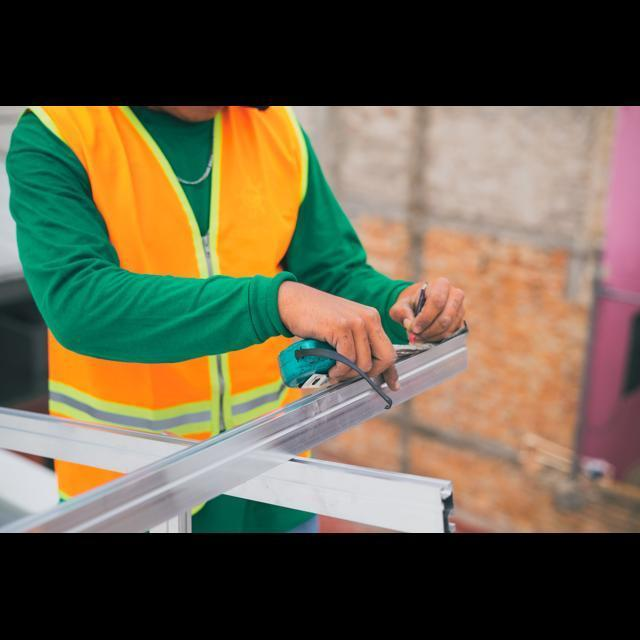safety_vest: (21, 104, 312, 445)
